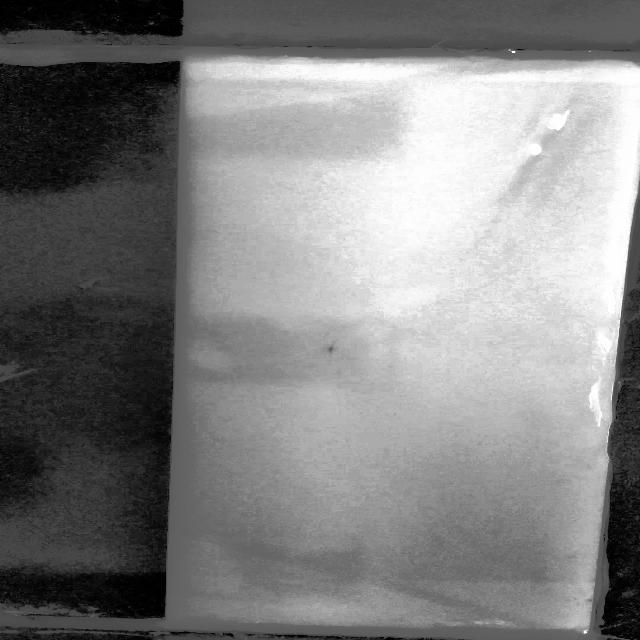shrimp: (323, 342, 347, 358)
